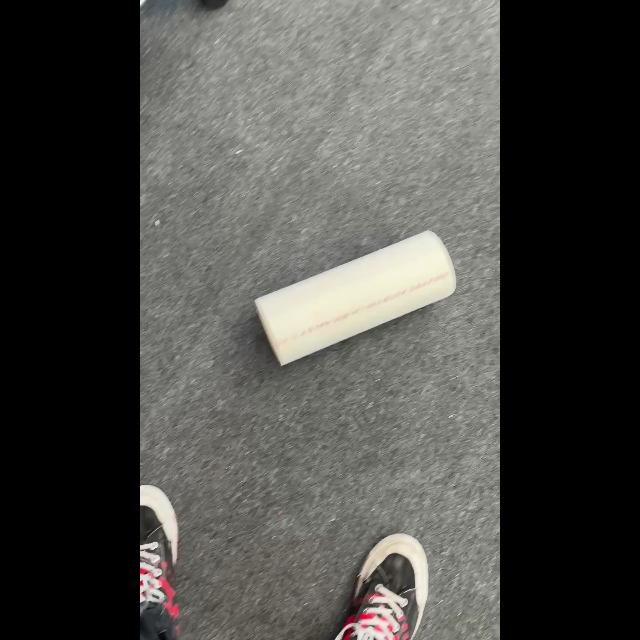CORAL: (254, 229, 456, 367)
